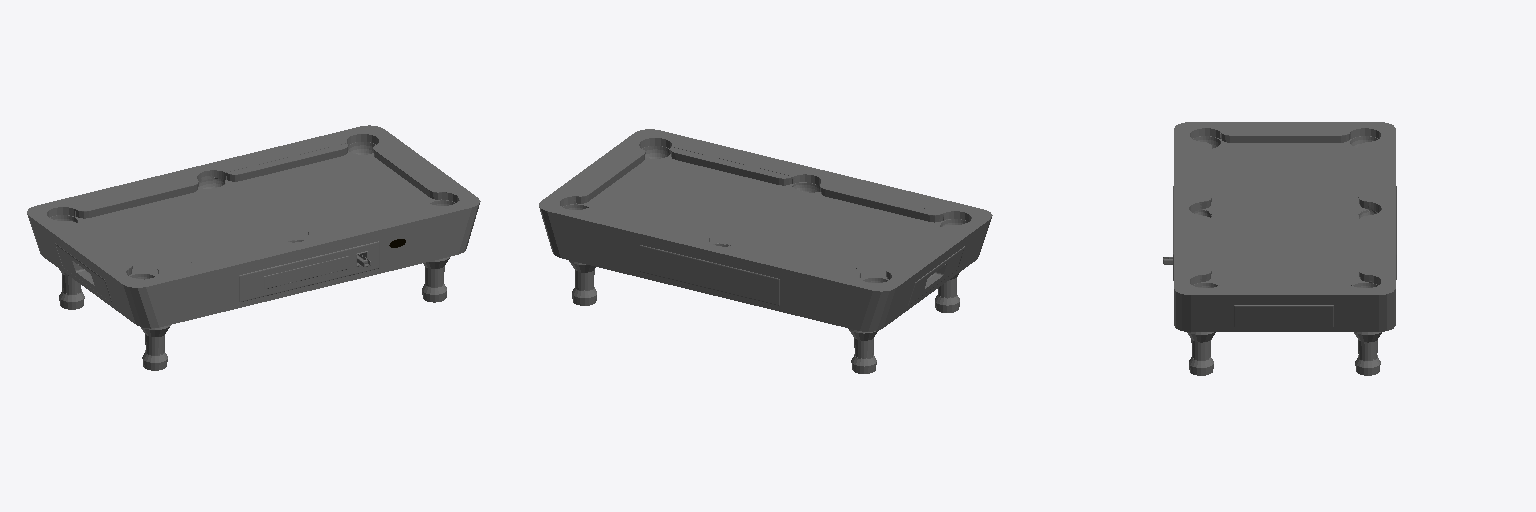
The model's file is table.obj.
3 renders of one model, left to right at view 1: azimuth 30°, elevation 25°; view 2: azimuth 150°, elevation 25°; view 3: azimuth 270°, elevation 25°, orthographic.
Visible parts, largest first — view 1: ChamferBox, Box001, ChamferBo4, ChamferBo5, ChamferBo1, Cylinder04, Box003, Cylinder07, Cylinder05, ChamferBo3, ChamferBo2, ChamferBo6 (+1 smaller); view 2: ChamferBox, Box001, ChamferBo3, ChamferBo2, ChamferBo1, Cylinder05, Cylinder06, Cylinder04, ChamferBo4, ChamferBo5, ChamferBo0; view 3: Box001, ChamferBox, ChamferBo0, Cylinder06, Cylinder07, ChamferBo4, ChamferBo3, ChamferBo5, ChamferBo2.
Boxes of the visible parts, x1=… form: ChamferBox: x1=27, y1=125, x2=480, y2=328; Box001: x1=76, y1=152, x2=441, y2=275; ChamferBo4: x1=75, y1=179, x2=198, y2=218; ChamferBo5: x1=226, y1=143, x2=348, y2=181; ChamferBo1: x1=373, y1=144, x2=441, y2=199; Cylinder04: x1=141, y1=325, x2=170, y2=370; Box003: x1=265, y1=257, x2=346, y2=287; Cylinder07: x1=422, y1=257, x2=449, y2=302; Cylinder05: x1=59, y1=269, x2=84, y2=309; ChamferBo3: x1=157, y1=238, x2=280, y2=273; ChamferBo2: x1=308, y1=202, x2=428, y2=234; ChamferBo6: x1=239, y1=241, x2=379, y2=301; ChamferBox: x1=539, y1=129, x2=992, y2=331; Box001: x1=576, y1=156, x2=941, y2=279; ChamferBo3: x1=820, y1=183, x2=943, y2=222; ChamferBo2: x1=670, y1=147, x2=792, y2=185; ChamferBo1: x1=576, y1=149, x2=645, y2=203; Cylinder05: x1=848, y1=328, x2=878, y2=373; Cylinder06: x1=569, y1=260, x2=596, y2=305; Cylinder04: x1=935, y1=273, x2=959, y2=312; ChamferBo4: x1=738, y1=242, x2=860, y2=277; ChamferBo5: x1=589, y1=206, x2=710, y2=236; ChamferBo0: x1=886, y1=225, x2=954, y2=279; Box001: x1=1202, y1=139, x2=1368, y2=284; ChamferBox: x1=1174, y1=122, x2=1395, y2=331; ChamferBo0: x1=1221, y1=132, x2=1350, y2=142; Cylinder06: x1=1354, y1=332, x2=1381, y2=375; Cylinder07: x1=1187, y1=332, x2=1215, y2=375; ChamferBo4: x1=1358, y1=142, x2=1368, y2=208; ChamferBo3: x1=1202, y1=142, x2=1211, y2=208; ChamferBo5: x1=1359, y1=216, x2=1368, y2=281; ChamferBo2: x1=1202, y1=216, x2=1211, y2=281.
Size of the model in its own units: 1.11 by 0.2829 by 0.6279.